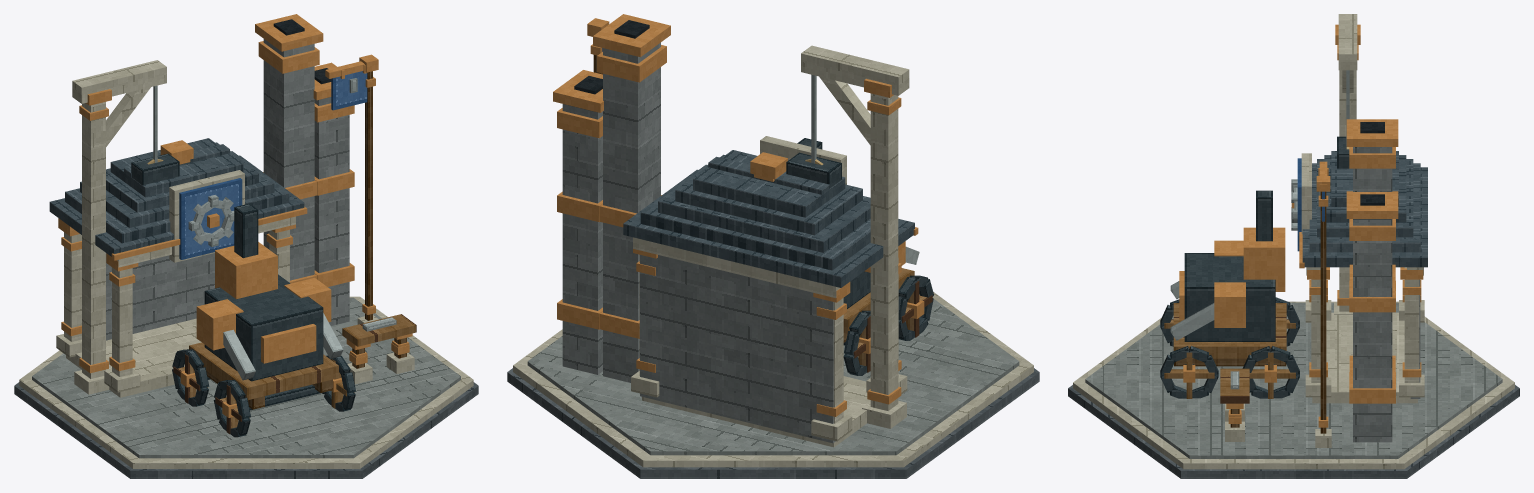
The model's file is dwarf_grand_arsenal_hex_v1.glb.
3 renders of one model, left to right at view 1: azimuth 30°, elevation 25°; view 2: azimuth 150°, elevation 25°; view 3: azimuth 270°, elevation 25°, orthographic. The views are drawn at different scales.
Parts seen in each view (by area): view 1: Dwarf_Grand_Arsenal_Hex_V1_Focus, Dwarf_Grand_Arsenal_Hex_V1_Foundation, Dwarf_Grand_Arsenal_Hex_V1_Hall, Dwarf_Grand_Arsenal_Hex_V1_Roofs, Dwarf_Grand_Arsenal_Hex_V1_Faction, Dwarf_Grand_Arsenal_Hex_V1_Details, Dwarf_Grand_Arsenal_Hex_V1_Training; view 2: Dwarf_Grand_Arsenal_Hex_V1_Focus, Dwarf_Grand_Arsenal_Hex_V1_Foundation, Dwarf_Grand_Arsenal_Hex_V1_Hall, Dwarf_Grand_Arsenal_Hex_V1_Roofs, Dwarf_Grand_Arsenal_Hex_V1_Details, Dwarf_Grand_Arsenal_Hex_V1_Faction; view 3: Dwarf_Grand_Arsenal_Hex_V1_Foundation, Dwarf_Grand_Arsenal_Hex_V1_Focus, Dwarf_Grand_Arsenal_Hex_V1_Roofs, Dwarf_Grand_Arsenal_Hex_V1_Hall, Dwarf_Grand_Arsenal_Hex_V1_Faction, Dwarf_Grand_Arsenal_Hex_V1_Details, Dwarf_Grand_Arsenal_Hex_V1_Training.
Part boxes in pixels (box(x1,y1,x2,y2)): Dwarf_Grand_Arsenal_Hex_V1_Focus: box(72, 14, 355, 437); Dwarf_Grand_Arsenal_Hex_V1_Foundation: box(14, 296, 478, 478); Dwarf_Grand_Arsenal_Hex_V1_Hall: box(56, 216, 295, 397); Dwarf_Grand_Arsenal_Hex_V1_Roofs: box(49, 138, 307, 260); Dwarf_Grand_Arsenal_Hex_V1_Faction: box(169, 54, 378, 324); Dwarf_Grand_Arsenal_Hex_V1_Details: box(61, 19, 409, 373); Dwarf_Grand_Arsenal_Hex_V1_Training: box(342, 314, 416, 384); Dwarf_Grand_Arsenal_Hex_V1_Focus: box(553, 14, 933, 428); Dwarf_Grand_Arsenal_Hex_V1_Foundation: box(507, 292, 1039, 478); Dwarf_Grand_Arsenal_Hex_V1_Hall: box(631, 237, 907, 447); Dwarf_Grand_Arsenal_Hex_V1_Roofs: box(623, 150, 918, 287); Dwarf_Grand_Arsenal_Hex_V1_Details: box(574, 20, 901, 416); Dwarf_Grand_Arsenal_Hex_V1_Faction: box(587, 18, 846, 184); Dwarf_Grand_Arsenal_Hex_V1_Foundation: box(1068, 301, 1519, 478); Dwarf_Grand_Arsenal_Hex_V1_Focus: box(1160, 14, 1398, 442); Dwarf_Grand_Arsenal_Hex_V1_Roofs: box(1299, 151, 1427, 268); Dwarf_Grand_Arsenal_Hex_V1_Hall: box(1305, 267, 1424, 403); Dwarf_Grand_Arsenal_Hex_V1_Faction: box(1291, 153, 1331, 447); Dwarf_Grand_Arsenal_Hex_V1_Details: box(1228, 45, 1421, 427); Dwarf_Grand_Arsenal_Hex_V1_Training: box(1220, 368, 1249, 441).
Bounding box in the file's own units: 1.59 × 1.42 × 1.84.
Materials: 1 (1 with a texture image).
